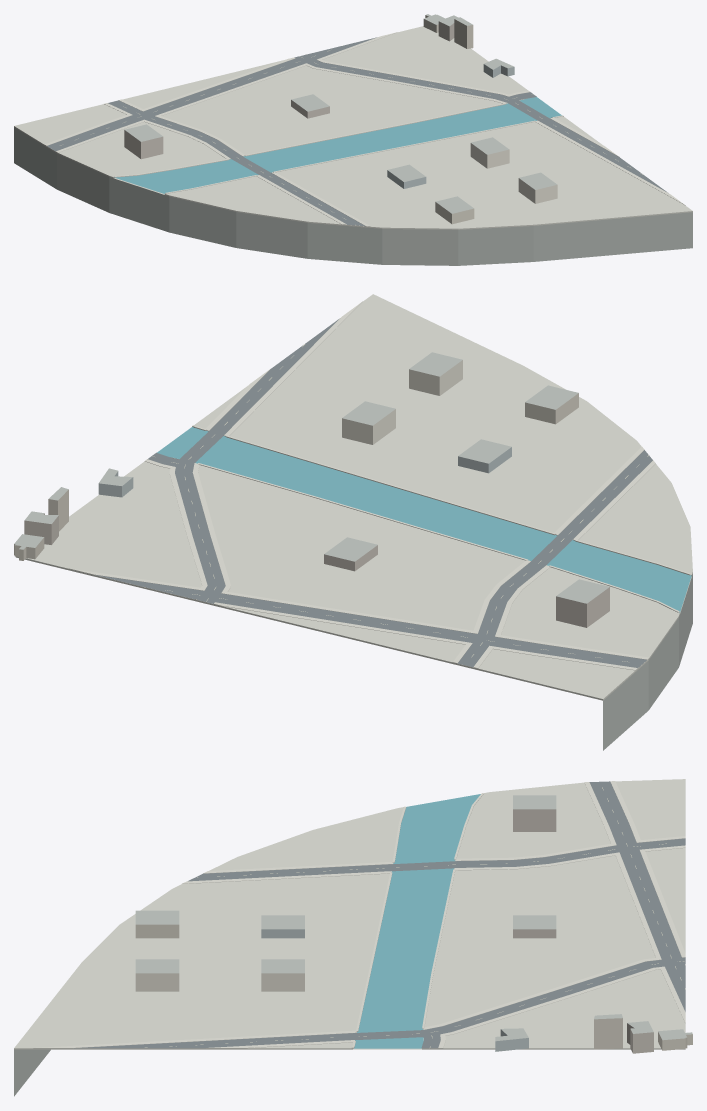
3 renders of one model, top to bottom at view 1: azimuth 30°, elevation 25°; view 2: azimuth 150°, elevation 25°; view 3: azimuth 270°, elevation 25°, orthographic. The views are drawn at different scales.
Visible parts, largest first — view 1: city; view 2: city; view 3: city.
Part boxes in pixels (left/top/right/bottom): city: left=14, top=14, right=692, bottom=265; city: left=14, top=294, right=692, bottom=750; city: left=14, top=779, right=692, bottom=1096.
Size of the model in its own units: 388 by 52 by 405.
